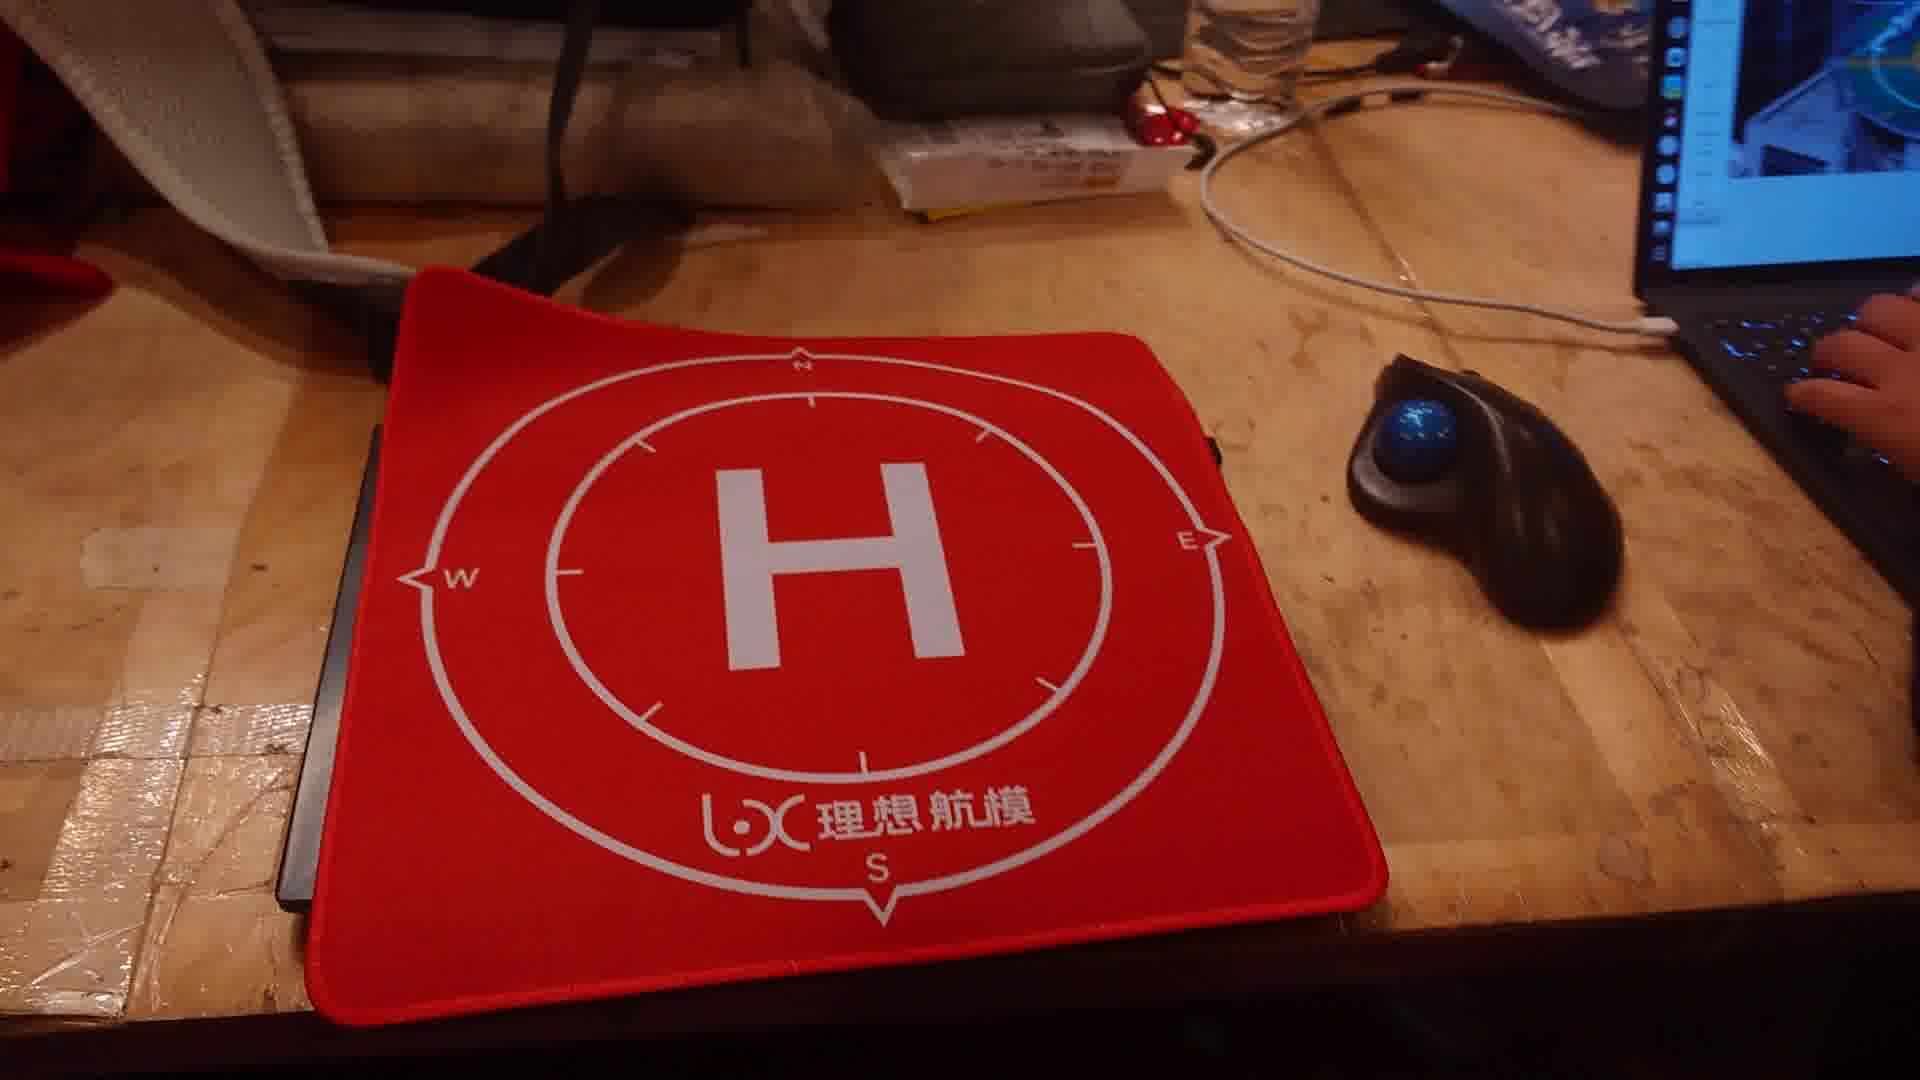H: (713, 463, 971, 673)
